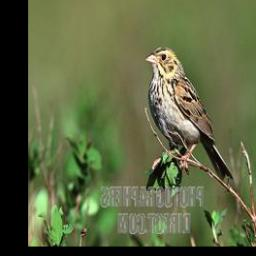Sparrow: (145, 44, 235, 191)
